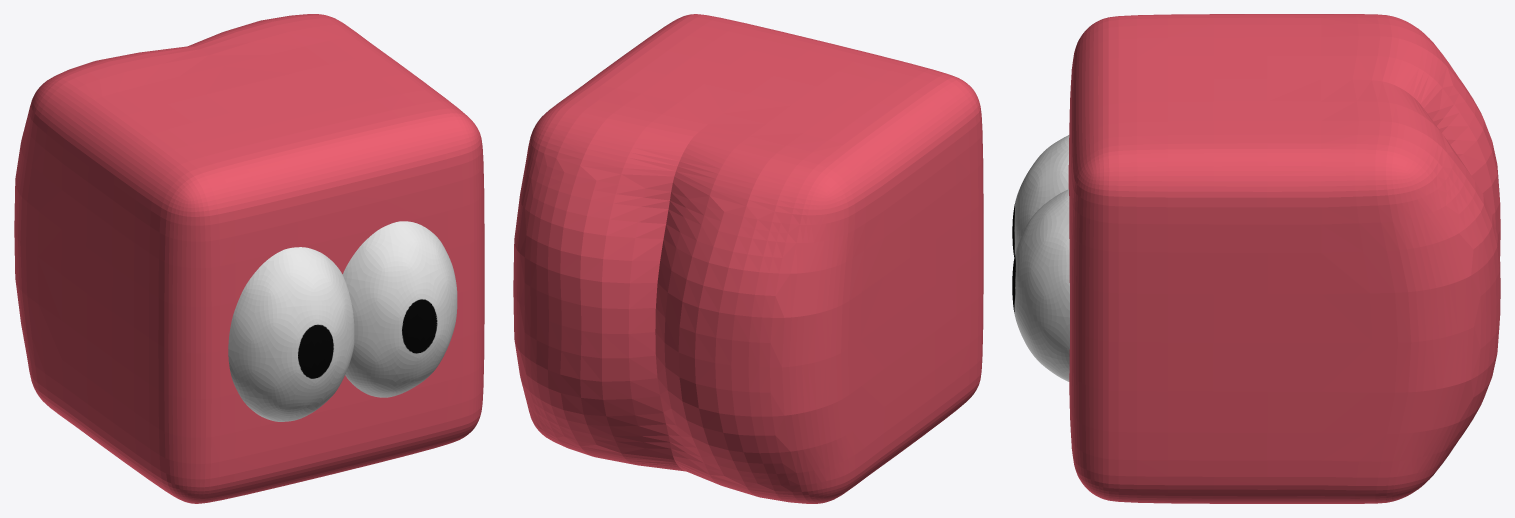
File: Jelly+.fbx
3 views of the same model, side by side, from view 1: azimuth 30°, elevation 25°; view 2: azimuth 150°, elevation 25°; view 3: azimuth 270°, elevation 25° (orthographic). The views are drawn at different scales.
Visible parts, largest first — view 1: Jelly.001; view 2: Jelly.001; view 3: Jelly.001.
Boxes of the visible parts, x1,y1,x2,y2 form: Jelly.001: (14,14,484,503); Jelly.001: (513,14,983,503); Jelly.001: (1012,14,1500,503).
Bounding box in the file's own units: 200 × 200 × 245.
